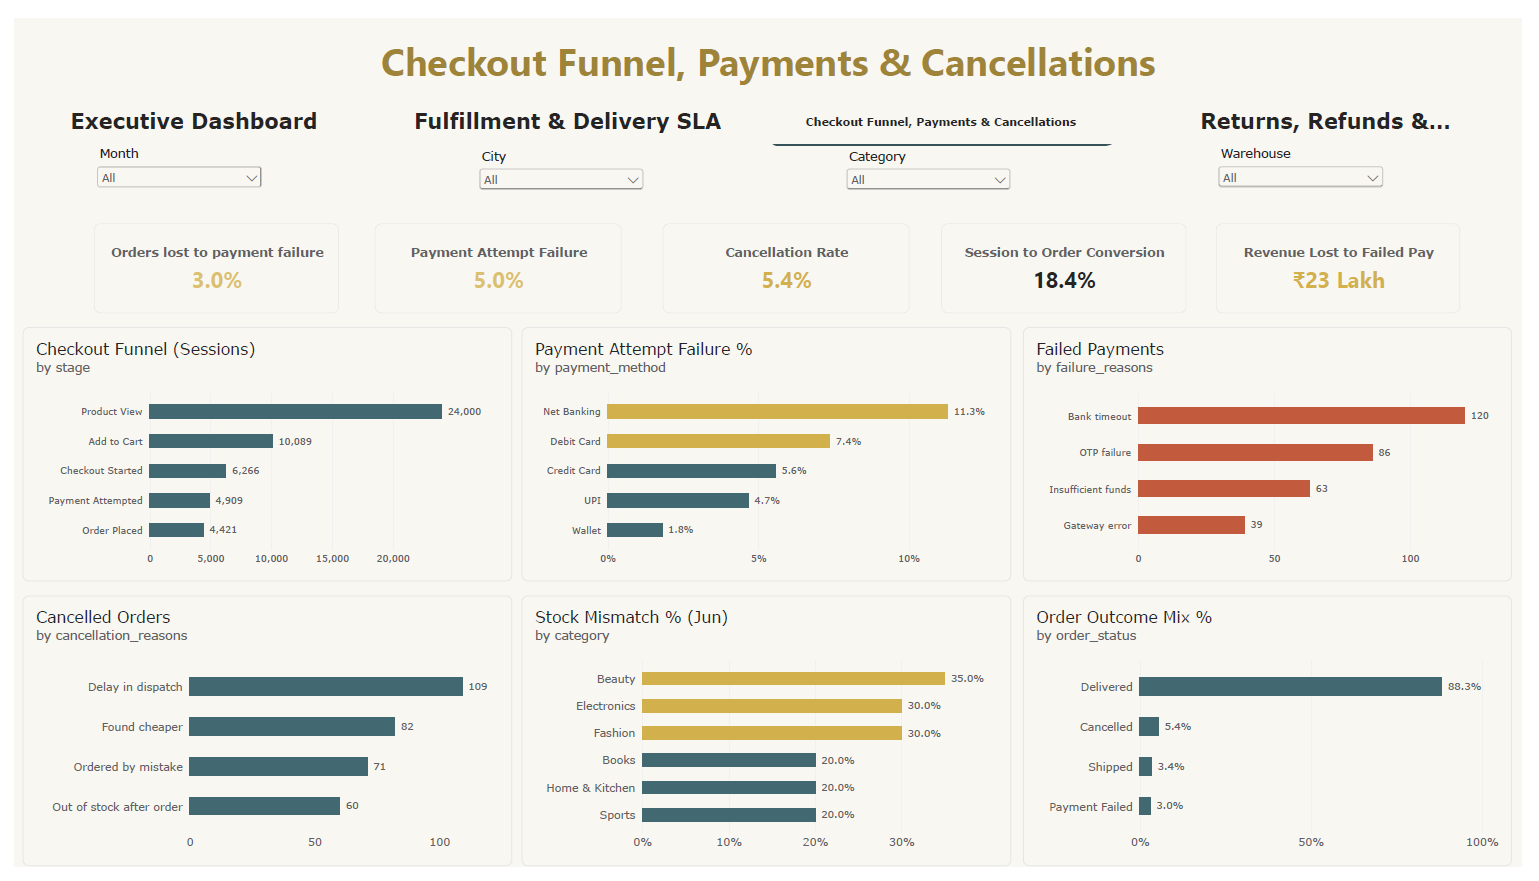

The dashboard page shown, as its layout file describes it:
{"tool":"powerbi","page":{"name":"Checkout Funnel, Payments & Cancellations","canvas":[1920,1080],"ordinal":2},"visuals":[{"type":"textbox","box":[9.5,21.5,1901.6,78.7],"z":0},{"type":"clusteredBarChart","fields":{"Category":["payments.payment_method"],"Y":["payments.Payment Attempt Failure %"]},"box":[646.2,392.8,623.4,324.4],"z":1000},{"type":"clusteredBarChart","fields":{"Category":["payments.failure_reason"],"Y":["payments.Failed Payments"]},"box":[1284.8,392.8,623.4,324.4],"z":2000},{"type":"clusteredBarChart","fields":{"Category":["orders.cancel_reason"],"Y":["orders.Cancelled Orders"]},"box":[10.1,734.9,623.4,344.6],"z":3000},{"type":"clusteredBarChart","fields":{"Category":["products.category"],"Y":["products.Stock Mismatch % (Jun)"]},"box":[646.2,734.9,623.4,344.6],"z":4000},{"type":"cardVisual","fields":{"Data":["payments.Payment Failure Rate % (orders)"]},"box":[101.4,261,311.7,114],"z":5000},{"type":"cardVisual","fields":{"Data":["payments.Payment Attempt Failure %"]},"box":[458.7,261,314.2,114],"z":6000},{"type":"cardVisual","fields":{"Data":["orders.Cancellation Rate %"]},"box":[826.1,261,314.2,114],"z":7000},{"type":"cardVisual","fields":{"Data":["orders.Revenue Lost to Failed Pay Lakh"]},"box":[1530.6,261,311.7,114],"z":8000},{"type":"cardVisual","fields":{"Data":["orders.Session to Order Conversion %"]},"box":[1180.9,261,311.7,114],"z":9000},{"type":"clusteredBarChart","fields":{"Category":["funnel_events.stage"],"Y":["funnel_events.Funnel Sessions"]},"box":[10.1,392.8,623.4,324.4],"z":10000},{"type":"clusteredBarChart","fields":{"Category":["orders.order_status"],"Y":["orders.Order Mix %"]},"box":[1284.8,734.9,623.4,344.6],"z":11000},{"type":"pageNavigator","box":[9.5,100.2,1896.8,62],"z":11001},{"type":"slicer","fields":{"Values":["Date.Month"]},"box":[100.2,162.2,219.5,62],"z":11002},{"type":"slicer","fields":{"Values":["customers.city"]},"box":[586.9,164.6,219.5,62],"z":11003},{"type":"slicer","fields":{"Values":["products.category"]},"box":[1054.6,164.6,219.5,62],"z":11004},{"type":"slicer","fields":{"Values":["shipments.warehouse"]},"box":[1529.4,162.2,219.5,62],"z":11005}]}

Visuals, with their boxes in screenshot pixels (x1, y1, x2, y2), scaled from the page's 1920x1080 canvas onto the 1539x881 screenshot:
textbox: {"x1": 8, "y1": 18, "x2": 1532, "y2": 82}
clusteredBarChart - payments.payment_method x payments.Payment Attempt Failure %: {"x1": 518, "y1": 320, "x2": 1018, "y2": 585}
clusteredBarChart - payments.failure_reason x payments.Failed Payments: {"x1": 1030, "y1": 320, "x2": 1530, "y2": 585}
clusteredBarChart - orders.cancel_reason x orders.Cancelled Orders: {"x1": 8, "y1": 599, "x2": 508, "y2": 880}
clusteredBarChart - products.category x products.Stock Mismatch % (Jun): {"x1": 518, "y1": 599, "x2": 1018, "y2": 880}
cardVisual - payments.Payment Failure Rate % (orders): {"x1": 81, "y1": 213, "x2": 331, "y2": 306}
cardVisual - payments.Payment Attempt Failure %: {"x1": 368, "y1": 213, "x2": 620, "y2": 306}
cardVisual - orders.Cancellation Rate %: {"x1": 662, "y1": 213, "x2": 914, "y2": 306}
cardVisual - orders.Revenue Lost to Failed Pay Lakh: {"x1": 1227, "y1": 213, "x2": 1477, "y2": 306}
cardVisual - orders.Session to Order Conversion %: {"x1": 947, "y1": 213, "x2": 1196, "y2": 306}
clusteredBarChart - funnel_events.stage x funnel_events.Funnel Sessions: {"x1": 8, "y1": 320, "x2": 508, "y2": 585}
clusteredBarChart - orders.order_status x orders.Order Mix %: {"x1": 1030, "y1": 599, "x2": 1530, "y2": 880}
pageNavigator: {"x1": 8, "y1": 82, "x2": 1528, "y2": 132}
slicer - Date.Month: {"x1": 80, "y1": 132, "x2": 256, "y2": 183}
slicer - customers.city: {"x1": 470, "y1": 134, "x2": 646, "y2": 185}
slicer - products.category: {"x1": 845, "y1": 134, "x2": 1021, "y2": 185}
slicer - shipments.warehouse: {"x1": 1226, "y1": 132, "x2": 1402, "y2": 183}
